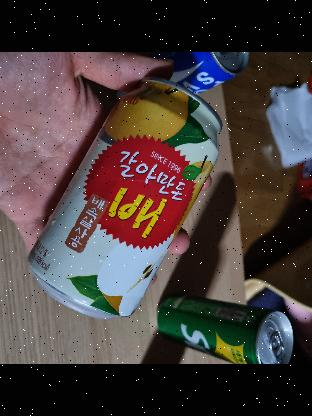Can: (25, 78, 220, 319)
